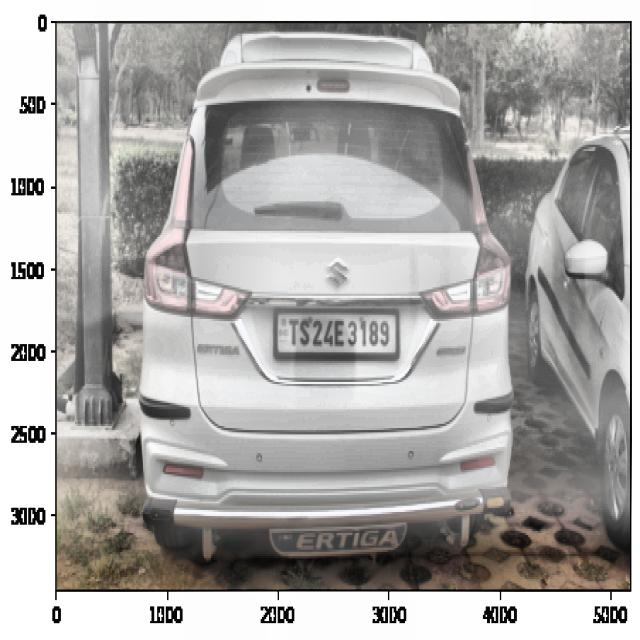license_plate: (286, 308, 399, 357)
